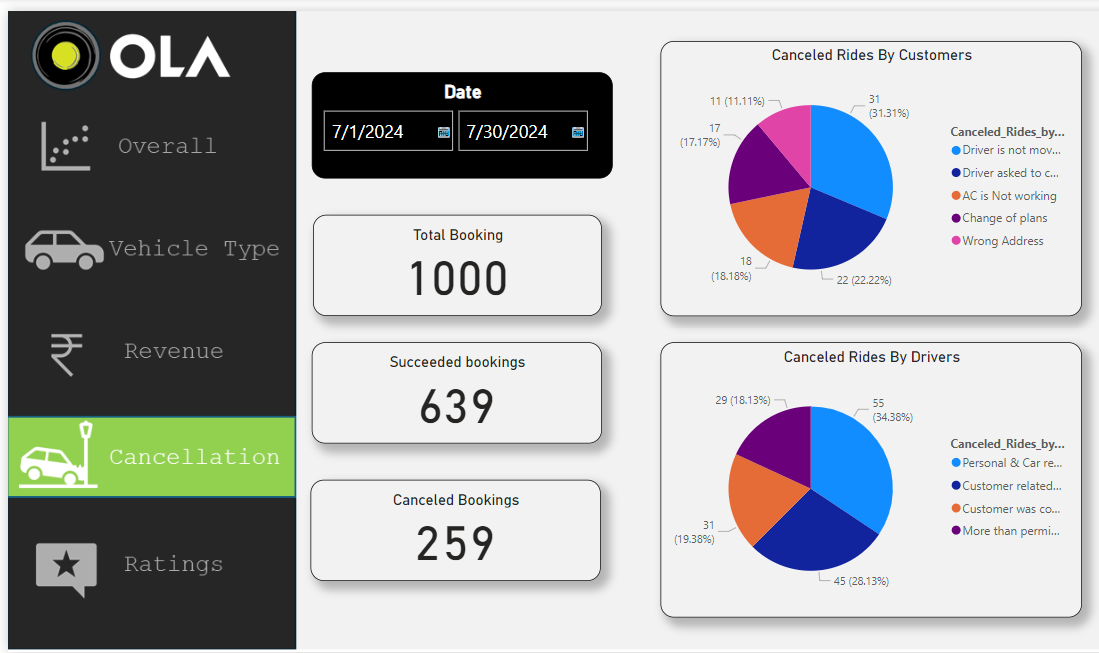

This screenshot's page, from the dashboard's own definition file:
{"tool":"powerbi","page":{"name":"Cancellation","canvas":[1280,720],"ordinal":3},"visuals":[{"type":"actionButton","box":[0,208.6,324.3,114.3],"z":0},{"type":"actionButton","box":[0,322.9,324.3,135.7],"z":1000},{"type":"actionButton","box":[0,547.1,324.3,150],"z":2000},{"type":"actionButton","box":[1.4,101.4,324.3,110],"z":3000},{"type":"pieChart","title":"Canceled Rides By Drivers ","fields":{"Category":["booking 1000 line.Canceled_Rides_by_Driver"],"Y":["CountNonNull(booking 1000 line.Canceled_Rides_by_Driver)"]},"box":[731.6,371.7,472.6,308.7],"z":4000},{"type":"pieChart","title":"Canceled Rides By Customers","fields":{"Category":["booking 1000 line.Canceled_Rides_by_Customer"],"Y":["CountNonNull(booking 1000 line.Canceled_Rides_by_Customer)"]},"box":[731.6,33.7,472.6,308.7],"z":5000},{"type":"slicer","title":"Date","fields":{"Values":["booking 1000 line.Date"]},"box":[340.3,68.6,337.6,119.4],"z":6000},{"type":"card","title":"Total Booking","fields":{"Values":["Count(booking 1000 line.Booking_ID)"]},"box":[341.7,229.2,323.8,113.9],"z":7000},{"type":"card","title":"Succeeded bookings","fields":{"Values":["Count(booking 1000 line.Booking_ID)"]},"box":[340.3,371.9,325.2,113.9],"z":8000},{"type":"card","title":"Canceled Bookings","fields":{"Values":["Count(booking 1000 line.Booking_ID)"]},"box":[338.9,525.6,325.2,113.9],"z":9000}]}

Visuals, with their boxes on the page's 1280x720 design canvas (x1, y1, x2, y2). These are canvas units, not pixel positions in the 1099x653 screenshot, which may show the page scaled, cropped or inside an application window:
actionButton: <bbox>0, 209, 324, 323</bbox>
actionButton: <bbox>0, 323, 324, 459</bbox>
actionButton: <bbox>0, 547, 324, 697</bbox>
actionButton: <bbox>1, 101, 326, 211</bbox>
"Canceled Rides By Drivers " pieChart: <bbox>732, 372, 1204, 680</bbox>
"Canceled Rides By Customers" pieChart: <bbox>732, 34, 1204, 342</bbox>
"Date" slicer: <bbox>340, 69, 678, 188</bbox>
"Total Booking" card: <bbox>342, 229, 666, 343</bbox>
"Succeeded bookings" card: <bbox>340, 372, 666, 486</bbox>
"Canceled Bookings" card: <bbox>339, 526, 664, 640</bbox>
